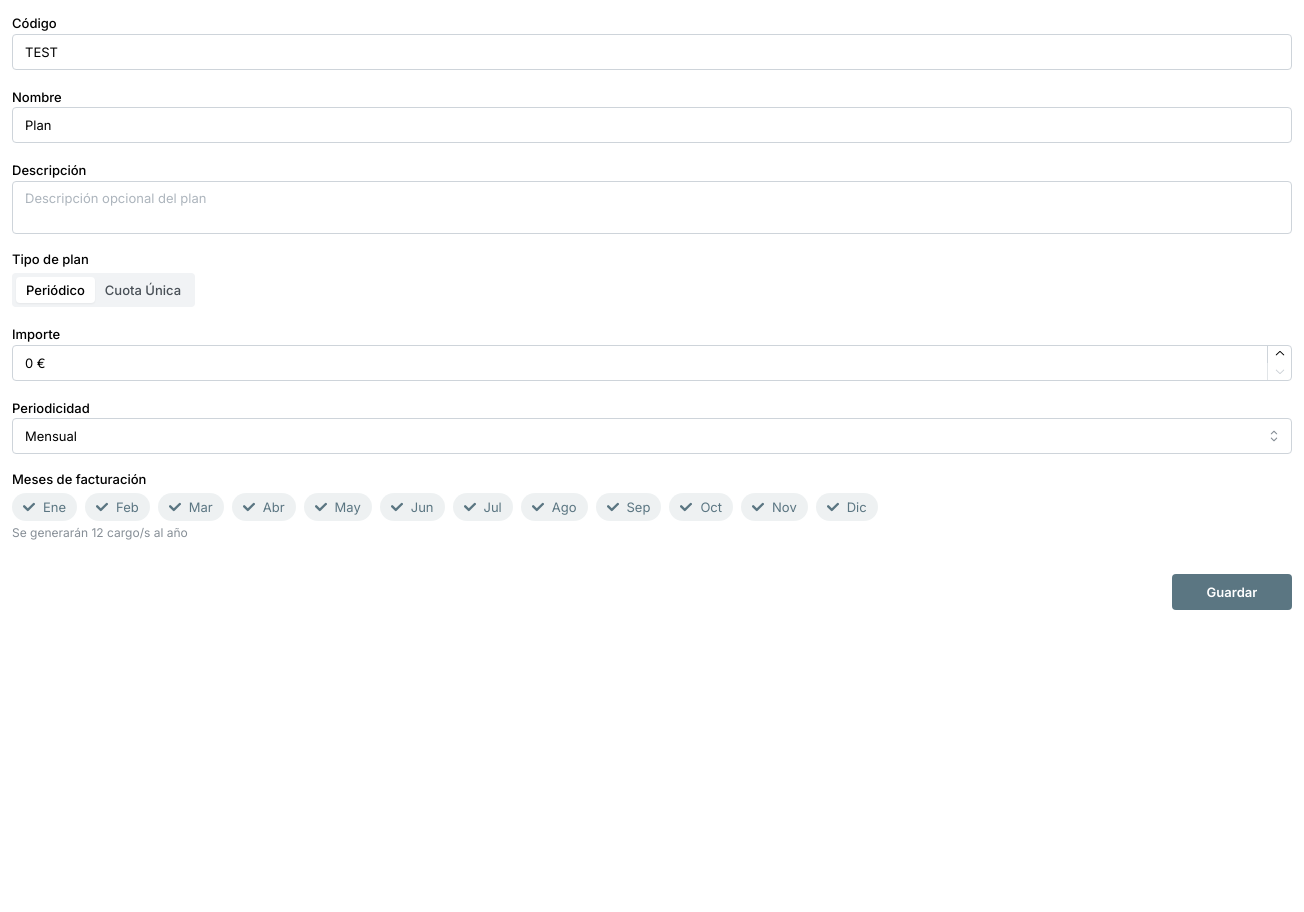
it: FeePlanForm › validacion de formulario › deberia mostrar error cuando el importe es menor que 0.01
Click the button "Guardar" at coordinates (1232, 592), box [1172,574,1292,610]
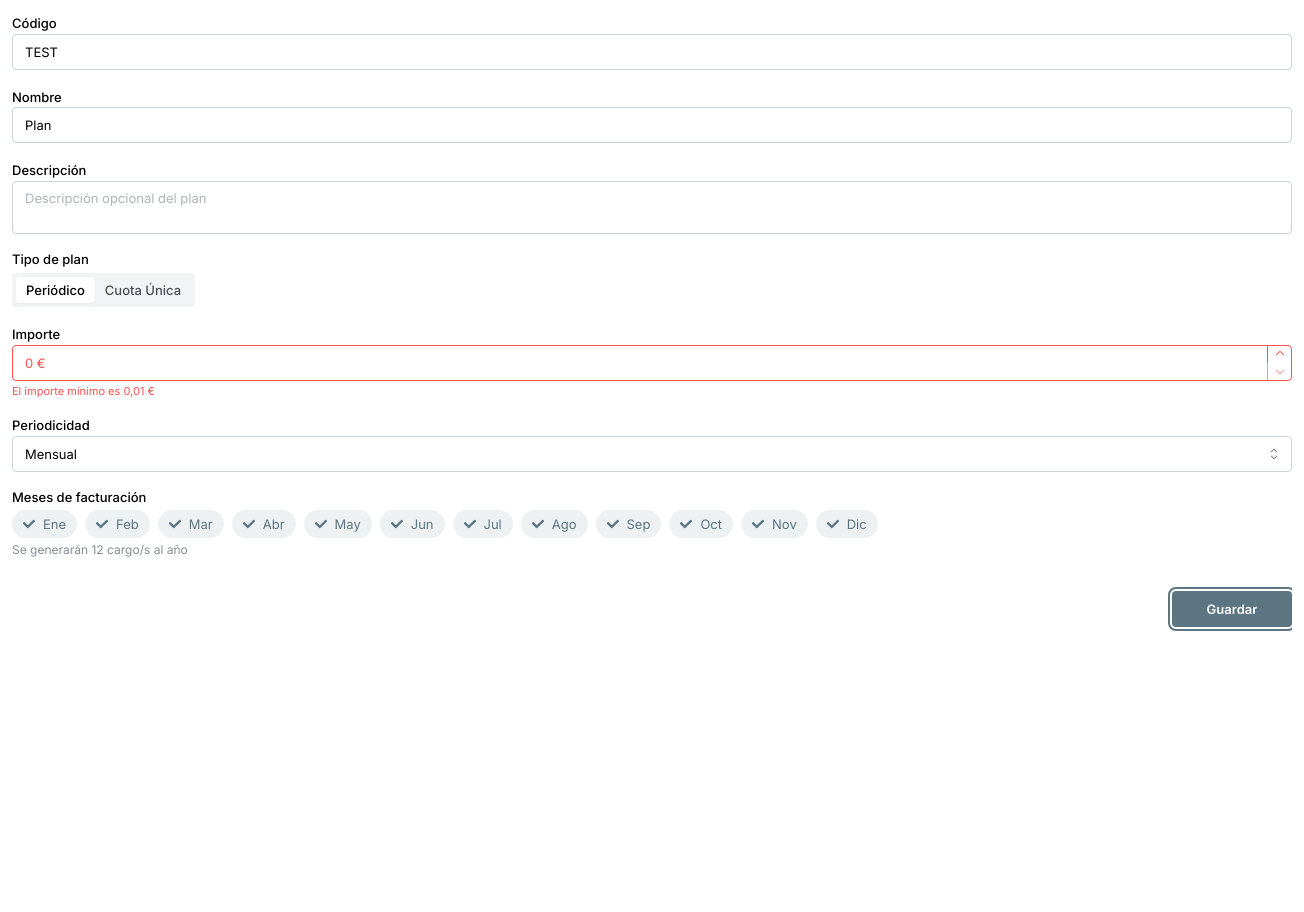
Check: the text "El importe mínimo es 0,01 €" is shown, box [12,384,155,398]
